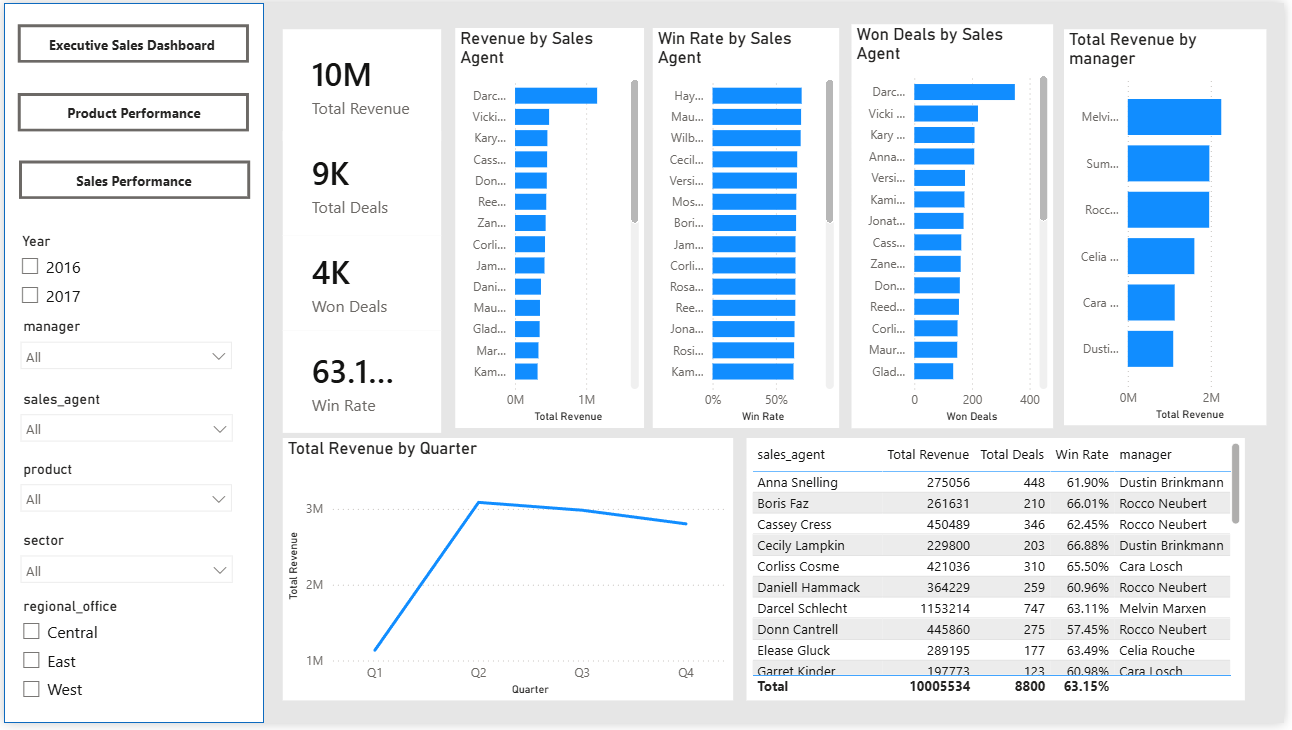

The page's visual inventory and layout, read from the dashboard file:
{"tool":"powerbi","page":{"name":"Sales Performance","canvas":[1280,720],"ordinal":2},"visuals":[{"type":"actionButton","title":"Executive Sales Dashboard","box":[13.8,21.2,231.2,38.8],"z":0,"group":"g1"},{"type":"cardVisual","fields":{"Data":["Sales Pipeline.Total Revenue"]},"box":[278.8,26.2,158.8,111.2],"z":0},{"type":"actionButton","title":"Executive Sales Dashboard","box":[13.8,90,231.2,38.8],"z":0,"group":"g2"},{"type":"actionButton","title":"Executive Sales Dashboard","box":[15,157.5,231.2,38.8],"z":0,"group":"g3"},{"type":"textbox","box":[40,27.4,180,28.8],"z":1000,"group":"g1"},{"type":"textbox","box":[40,96.2,180,28.8],"z":1000,"group":"g2"},{"type":"cardVisual","fields":{"Data":["Sales Pipeline.Total Deals"]},"box":[278.8,128.8,158.8,103.8],"z":1000},{"type":"textbox","box":[40,163.7,180,28.8],"z":1000,"group":"g3"},{"type":"cardVisual","fields":{"Data":["Sales Pipeline.Win Rate"]},"box":[278.8,327.5,158.8,102.5],"z":2000},{"type":"barChart","title":"Revenue by Sales Agent","fields":{"Y":["Sales Pipeline.Total Revenue"],"Category":["Sales Teams.sales_agent"]},"box":[451.2,25,188.8,400],"z":3000},{"type":"cardVisual","fields":{"Data":["Sales Pipeline.Won Deals"]},"box":[278.8,232.5,158.8,95],"z":4000},{"type":"clusteredBarChart","title":"Won Deals by Sales Agent","fields":{"Y":["Sales Pipeline.Won Deals"],"Category":["Sales Teams.sales_agent"]},"box":[847.5,21.2,201.2,403.8],"z":5000},{"type":"clusteredBarChart","title":"Win Rate by Sales Agent","fields":{"Y":["Sales Pipeline.Win Rate"],"Category":["Sales Teams.sales_agent"]},"box":[648.8,25,186.2,400],"z":6000},{"type":"clusteredBarChart","fields":{"Category":["Sales Teams.manager"],"Y":["Sales Pipeline.Total Revenue"]},"box":[1060,26.2,202.5,396.2],"z":7000},{"type":"tableEx","fields":{"Values":["Sales Teams.sales_agent","Sales Pipeline.Total Revenue","Sales Pipeline.Total Deals","Sales Pipeline.Win Rate","Sales Teams.manager"]},"box":[742.5,435,498.8,262.5],"z":8000},{"type":"shape","box":[0,0,260,720],"z":8500},{"type":"lineChart","fields":{"Y":["Sales Pipeline.Total Revenue"],"Category":["Calendar.Quarter"]},"box":[278.8,435,450,262.5],"z":9000},{"type":"slicer","fields":{"Values":["Sales Teams.manager"]},"box":[6.2,310,231.2,61.2],"z":10000},{"type":"slicer","fields":{"Values":["Accounts.sector"]},"box":[6.3,523.6,232.5,66.2],"z":11000},{"type":"slicer","fields":{"Values":["Sales Teams.sales_agent"]},"box":[5.8,382.6,232.5,70],"z":12000},{"type":"slicer","fields":{"Values":["Products.product"]},"box":[5.8,452.6,231.2,62.5],"z":13000},{"type":"slicer","fields":{"Values":["Calendar.Year"]},"box":[4.8,225.6,152.9,90.5],"z":14000},{"type":"slicer","fields":{"Values":["Sales Teams.regional_office"]},"box":[6.3,589.8,233.8,125],"z":15000},{"type":"group","id":"g1","title":"Group 1","box":[13.8,21.2,231.2,38.8],"z":16000},{"type":"group","id":"g2","title":"Group 2","box":[13.8,90,231.2,38.8],"z":17000},{"type":"group","id":"g3","title":"Group 3","box":[15,157.5,231.2,38.8],"z":19000}]}

Visuals, with their boxes on the page's 1280x720 design canvas (x1, y1, x2, y2). These are canvas units, not pixel positions in the 1292x730 screenshot, which may show the page scaled, cropped or inside an application window:
"Executive Sales Dashboard" actionButton: [left=14, top=21, right=245, bottom=60]
cardVisual - Sales Pipeline.Total Revenue: [left=279, top=26, right=438, bottom=137]
"Executive Sales Dashboard" actionButton: [left=14, top=90, right=245, bottom=129]
"Executive Sales Dashboard" actionButton: [left=15, top=158, right=246, bottom=196]
textbox: [left=40, top=27, right=220, bottom=56]
textbox: [left=40, top=96, right=220, bottom=125]
cardVisual - Sales Pipeline.Total Deals: [left=279, top=129, right=438, bottom=233]
textbox: [left=40, top=164, right=220, bottom=192]
cardVisual - Sales Pipeline.Win Rate: [left=279, top=328, right=438, bottom=430]
"Revenue by Sales Agent" barChart: [left=451, top=25, right=640, bottom=425]
cardVisual - Sales Pipeline.Won Deals: [left=279, top=232, right=438, bottom=328]
"Won Deals by Sales Agent" clusteredBarChart: [left=848, top=21, right=1049, bottom=425]
"Win Rate by Sales Agent" clusteredBarChart: [left=649, top=25, right=835, bottom=425]
clusteredBarChart - Sales Teams.manager x Sales Pipeline.Total Revenue: [left=1060, top=26, right=1262, bottom=422]
tableEx - Sales Teams.sales_agent x Sales Pipeline.Total Revenue: [left=742, top=435, right=1241, bottom=698]
shape: [left=0, top=0, right=260, bottom=720]
lineChart - Sales Pipeline.Total Revenue x Calendar.Quarter: [left=279, top=435, right=729, bottom=698]
slicer - Sales Teams.manager: [left=6, top=310, right=237, bottom=371]
slicer - Accounts.sector: [left=6, top=524, right=239, bottom=590]
slicer - Sales Teams.sales_agent: [left=6, top=383, right=238, bottom=453]
slicer - Products.product: [left=6, top=453, right=237, bottom=515]
slicer - Calendar.Year: [left=5, top=226, right=158, bottom=316]
slicer - Sales Teams.regional_office: [left=6, top=590, right=240, bottom=715]
"Group 1" group: [left=14, top=21, right=245, bottom=60]
"Group 2" group: [left=14, top=90, right=245, bottom=129]
"Group 3" group: [left=15, top=158, right=246, bottom=196]
